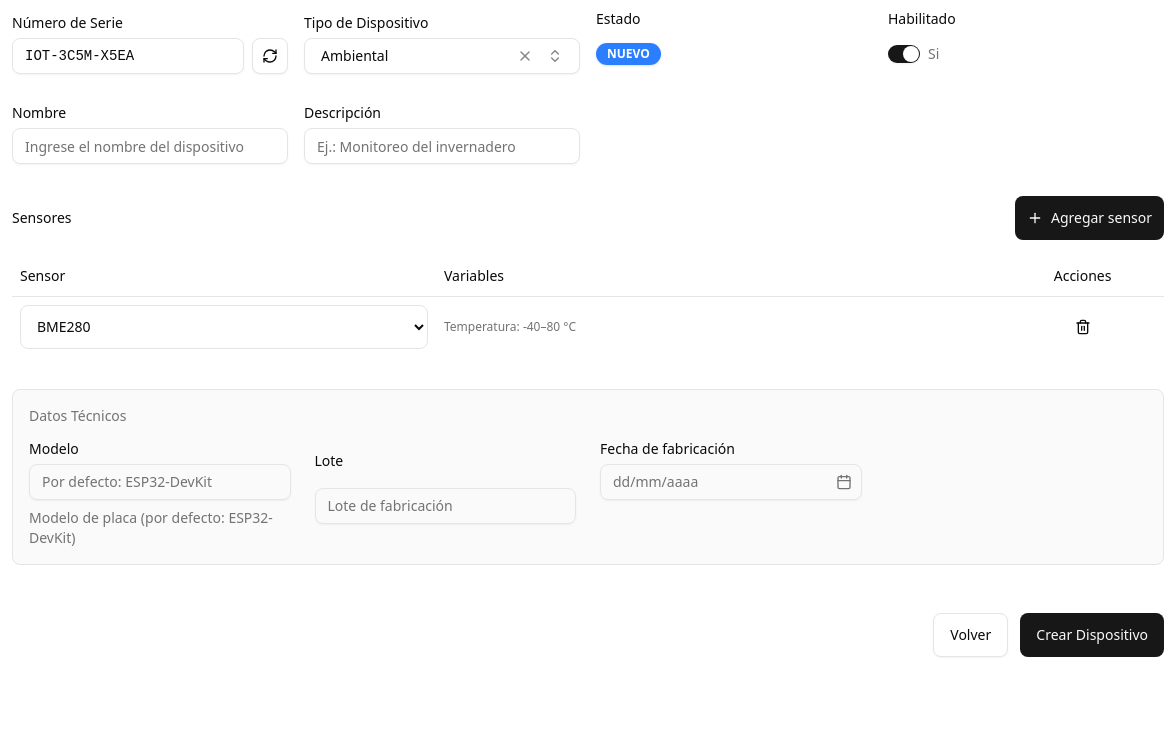
Scenario: DeviceForm › enforces the type's minimum number of sensors
Expected: the number of dropdowns named "Modelo del sensor 1" is 1, [20, 304, 428, 348]
Click the button named "Quitar sensor" at [1083, 326], box [1061, 304, 1105, 348]
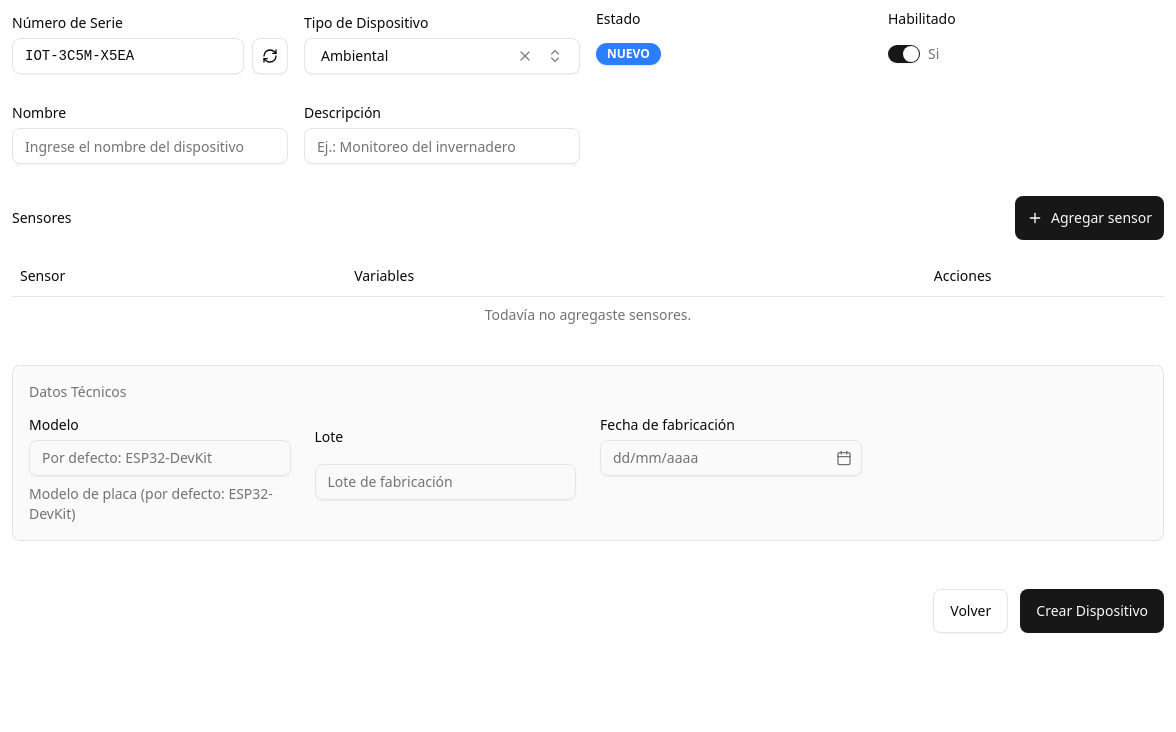
Now the text "Todavía no agregaste sensores." is shown, box [12, 296, 1164, 332]
Click the button "Crear Dispositivo" at [1092, 610], box [1020, 588, 1164, 632]
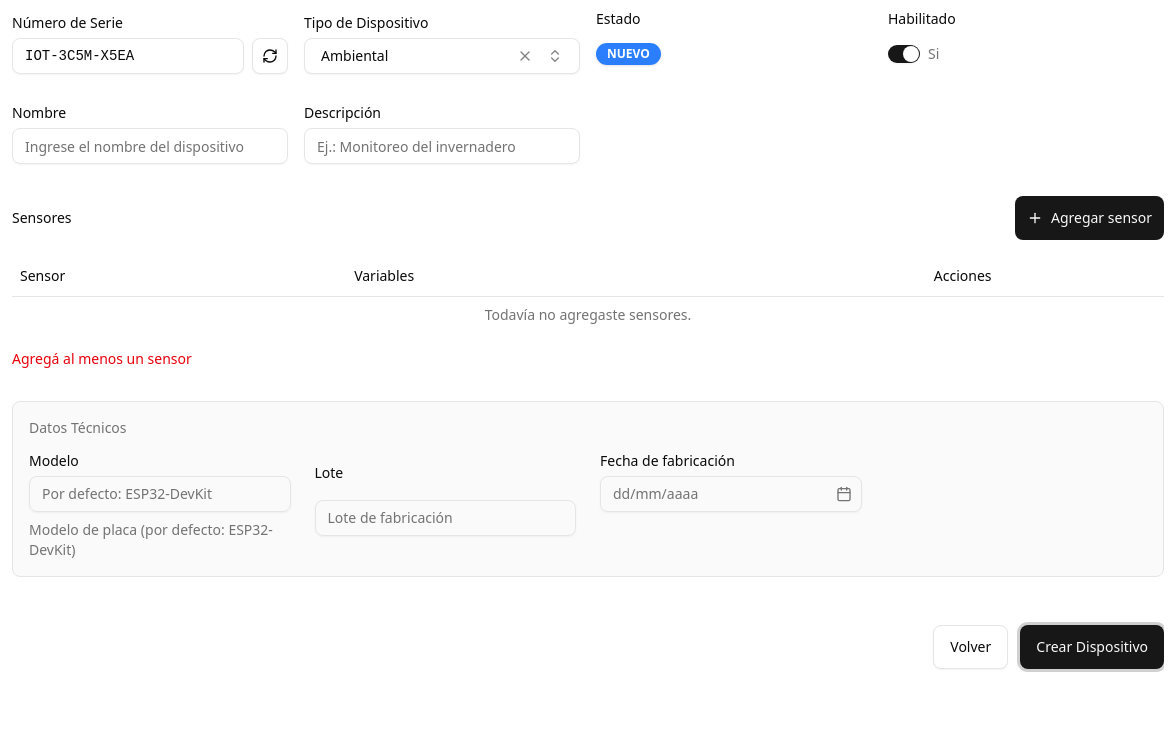
Now the text "Agregá al menos un sensor" is shown, box [12, 348, 192, 368]
